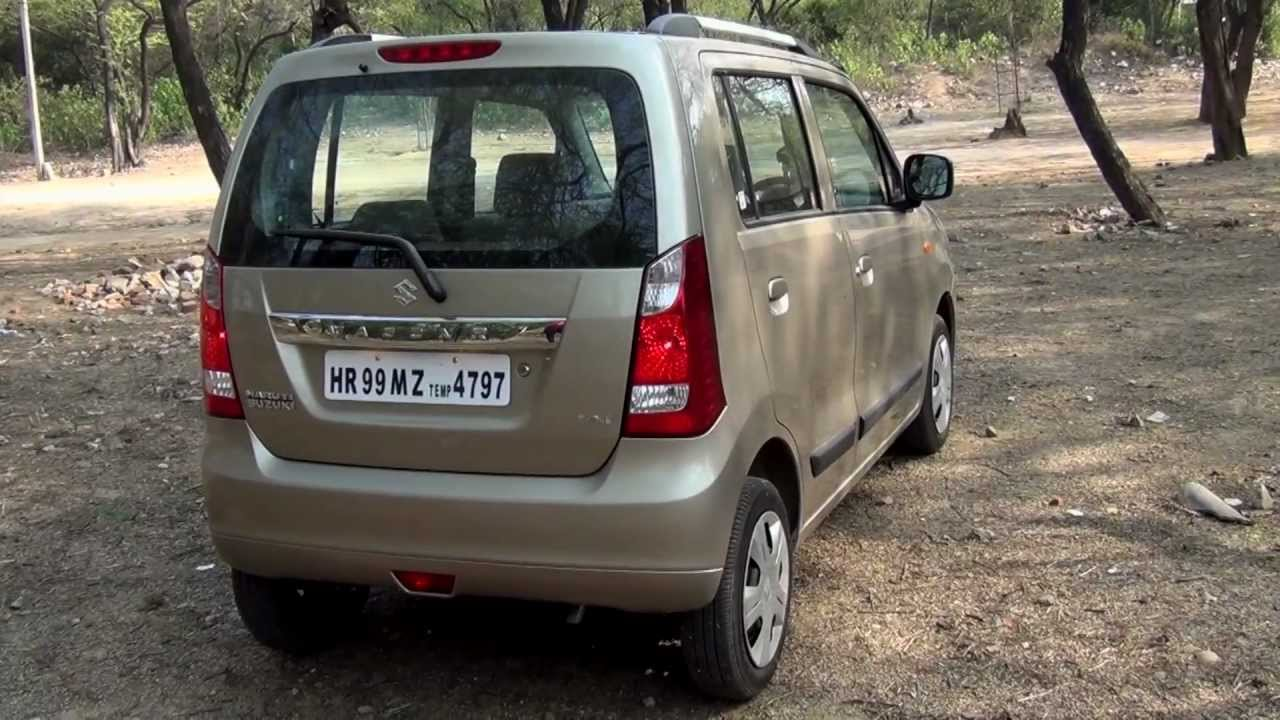car: (188, 12, 961, 700)
